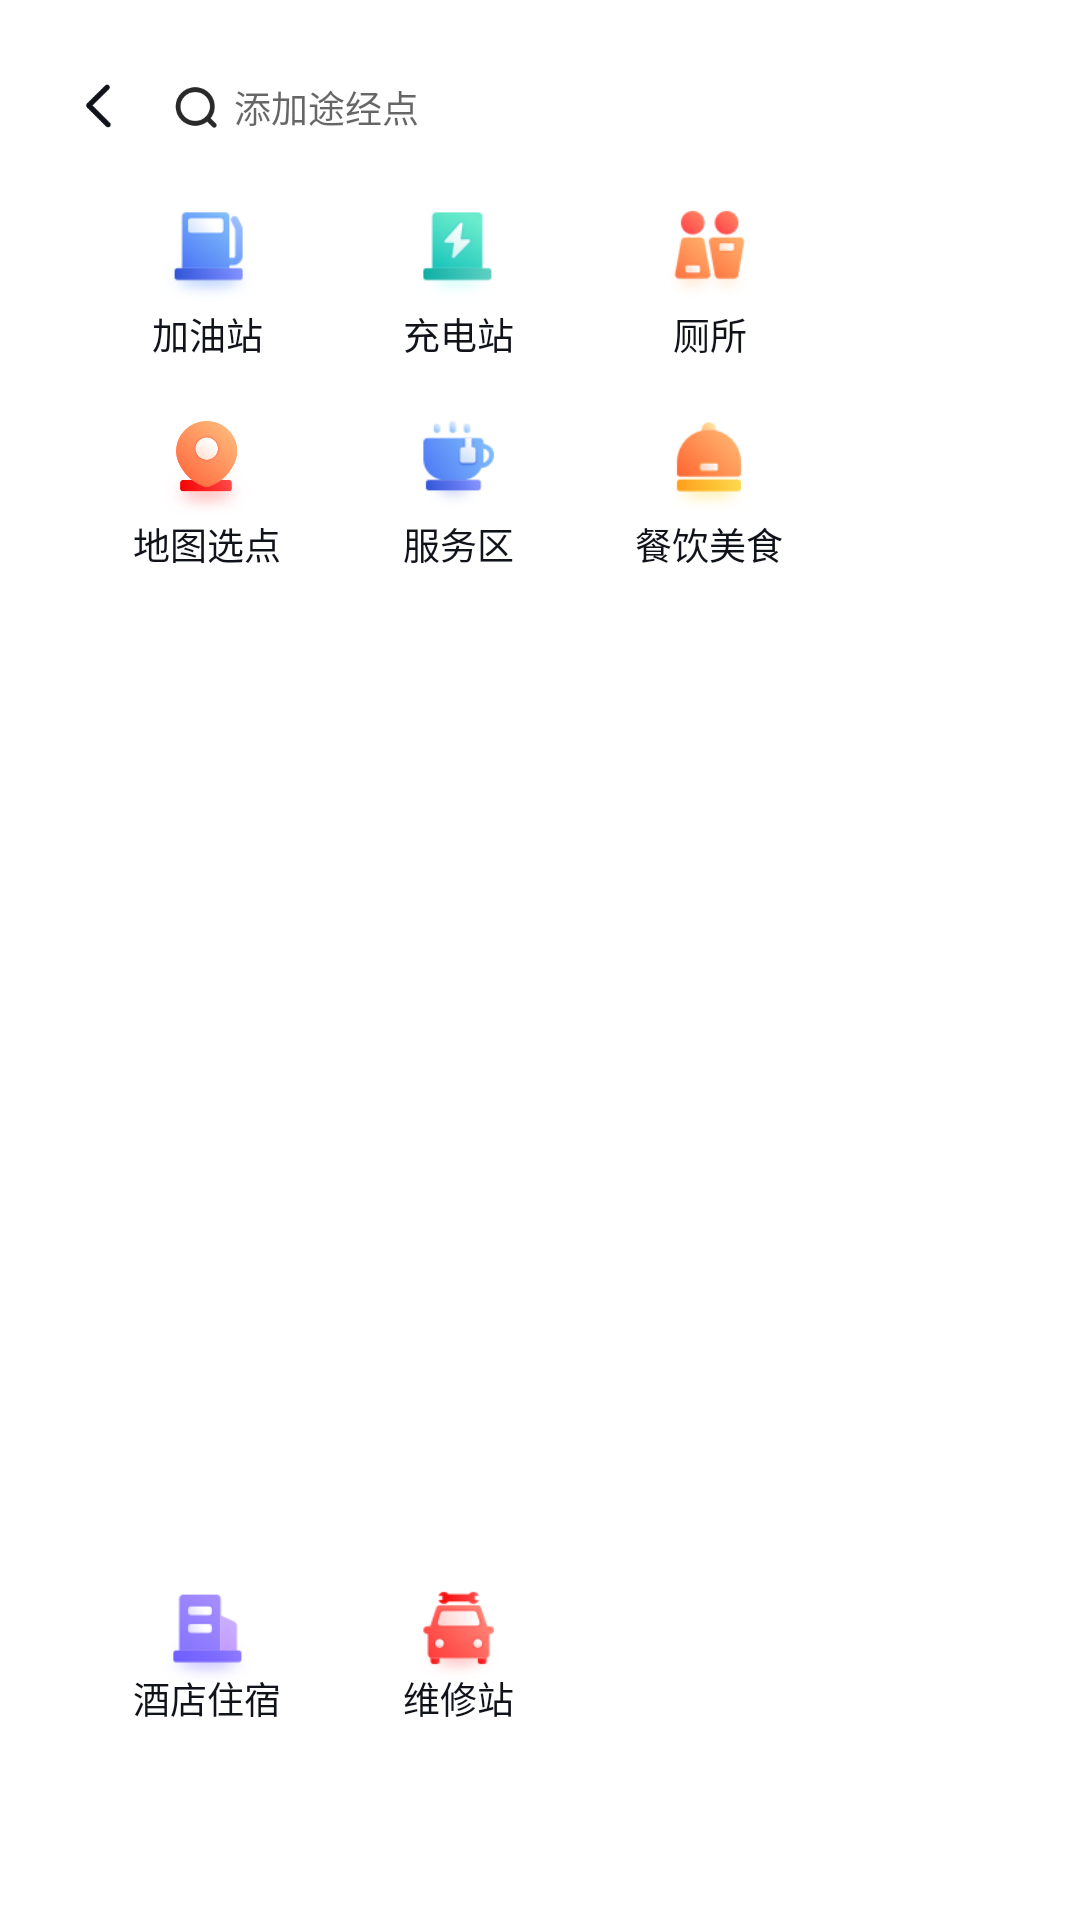

Icon click points for this 1080 × 1920 phone screenshot, format [x,y]:
back: [98,106]
search: [196,107]
